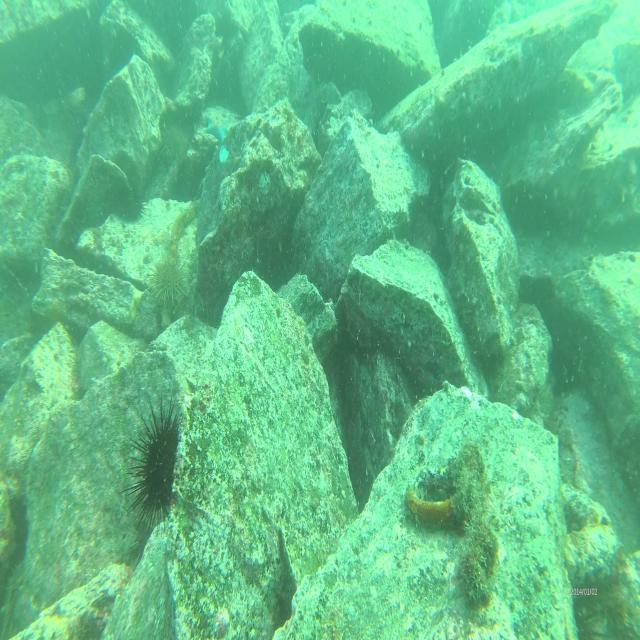echinus: (127, 396, 189, 536), (98, 180, 150, 226), (148, 260, 188, 304)
starfish: (203, 106, 232, 140)
